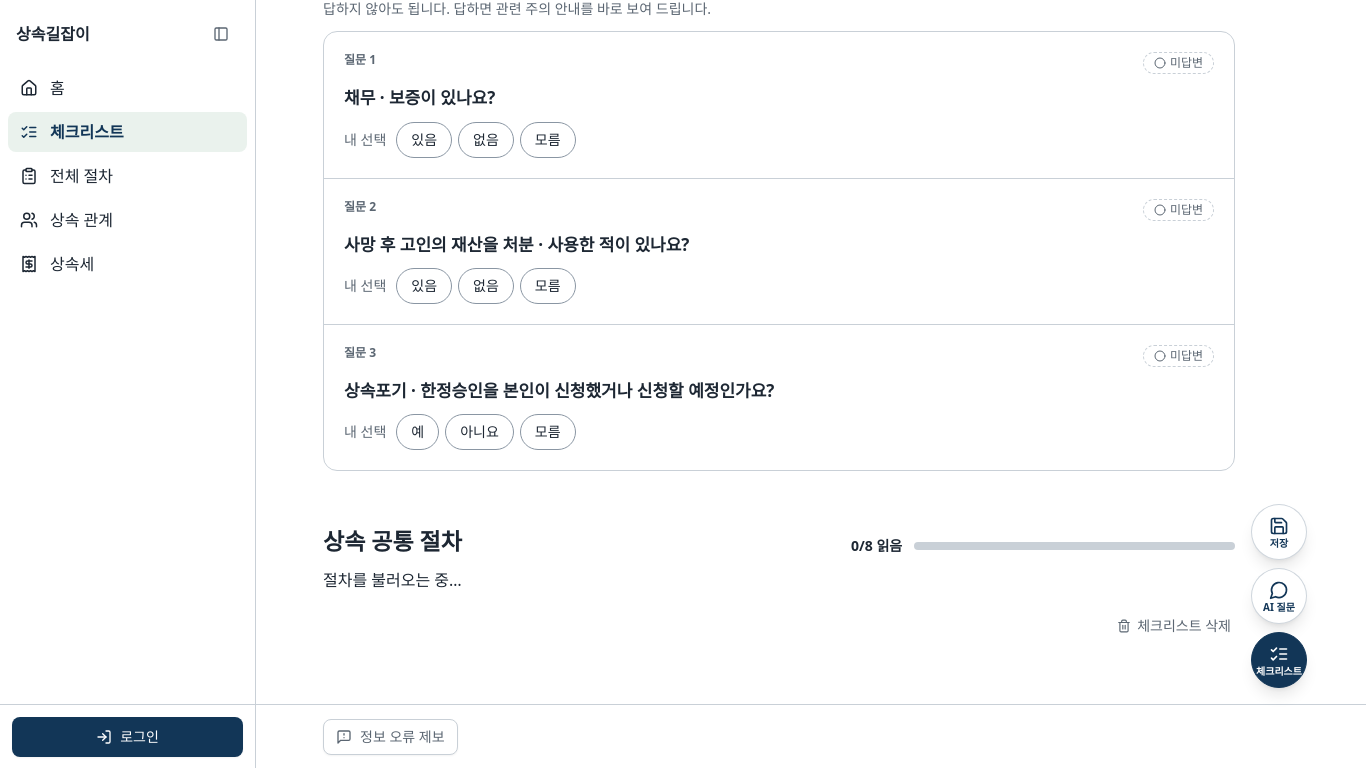
Test: W-02 삭제·철회 › [체크리스트 삭제] 뒤 화면이 바뀌어도 완료 안내가 남고, 동의는 유지된다
(page scrolled)
Click the button "체크리스트 삭제": (1174, 626) left=1113, top=604, right=1235, bottom=648
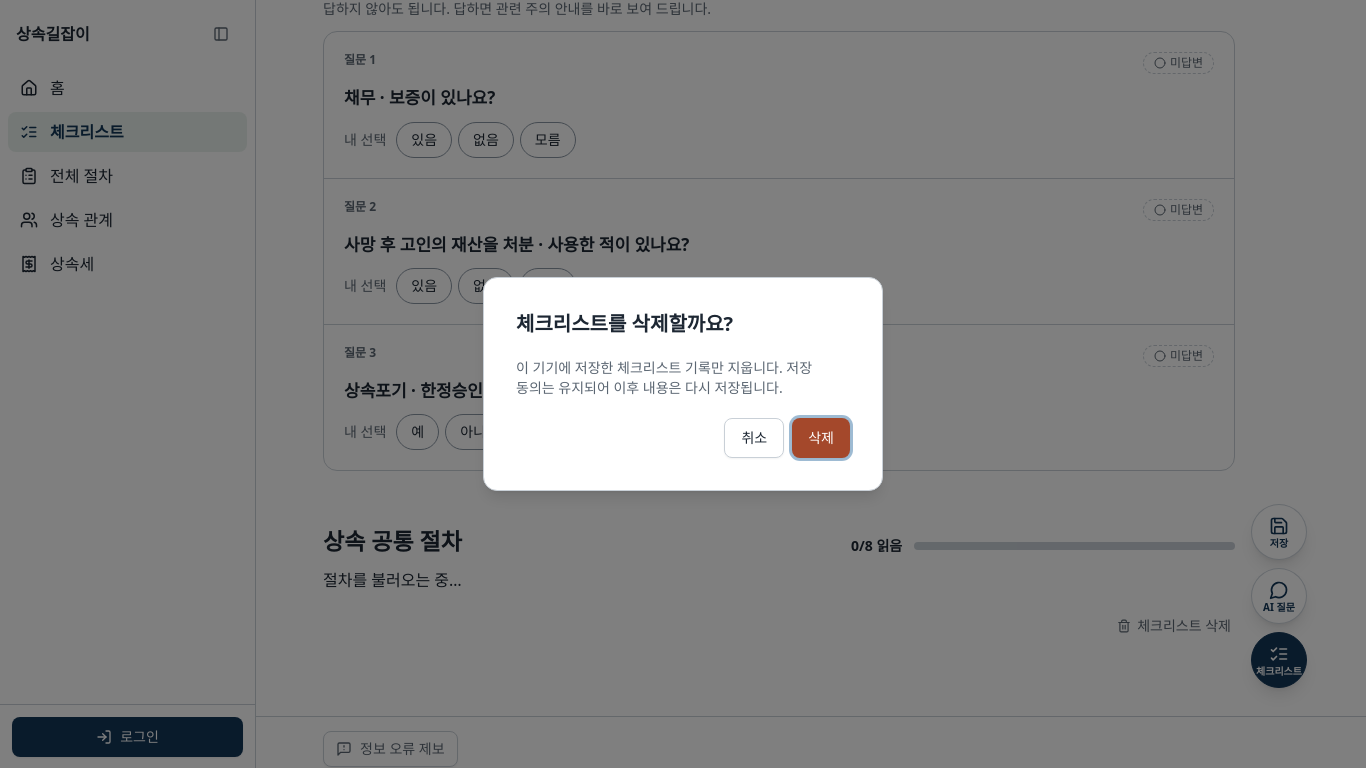
Check: the buttons read "취소", "삭제", in this order
Click the button "삭제": (821, 438) left=792, top=418, right=850, bottom=458
(page scrolled)
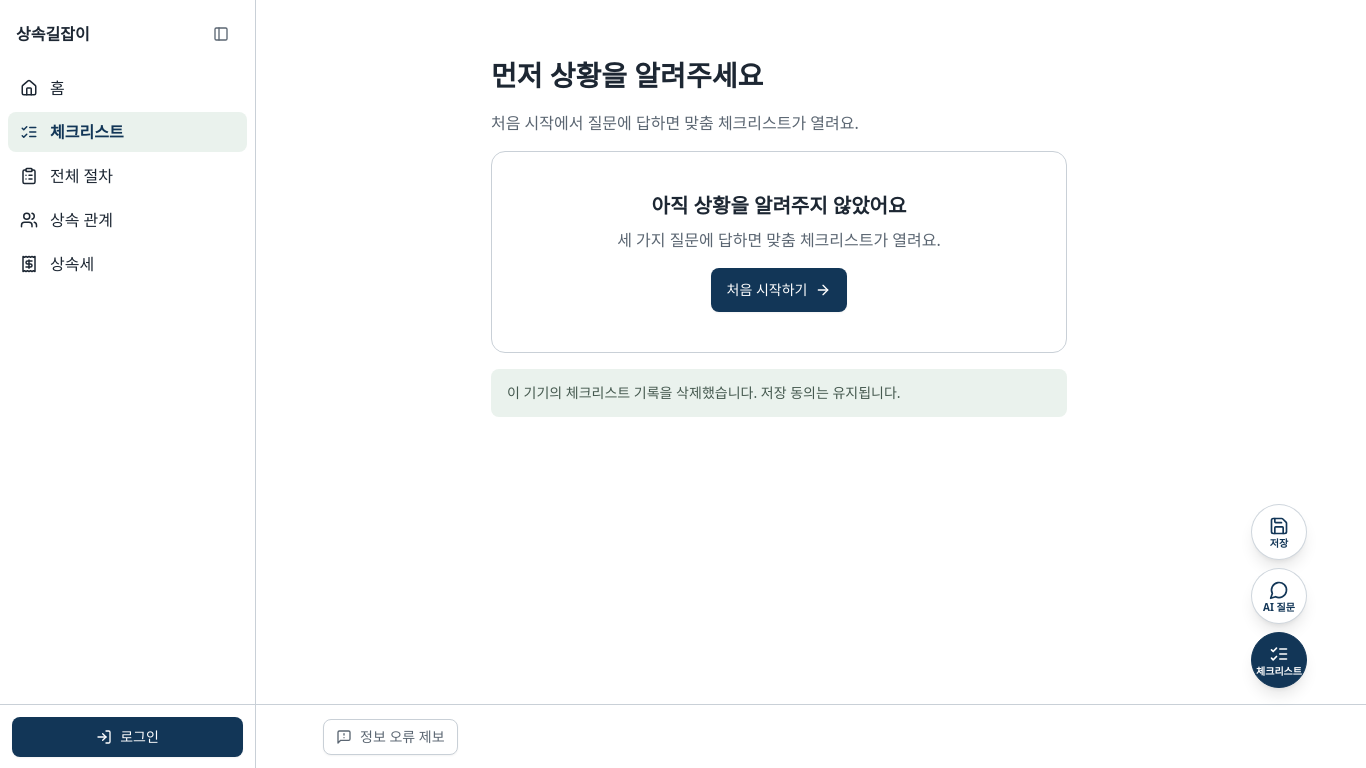
Check: the text "이 기기의 체크리스트 기록을 삭제했습니다. 저장 동의는 유지됩니다." is shown, box left=491, top=368, right=1067, bottom=416
Check: the button "처음 시작하기" is shown, box left=710, top=268, right=847, bottom=312
Check: the heading "먼저 상황을 알려주세요" is shown, box left=491, top=56, right=763, bottom=94
